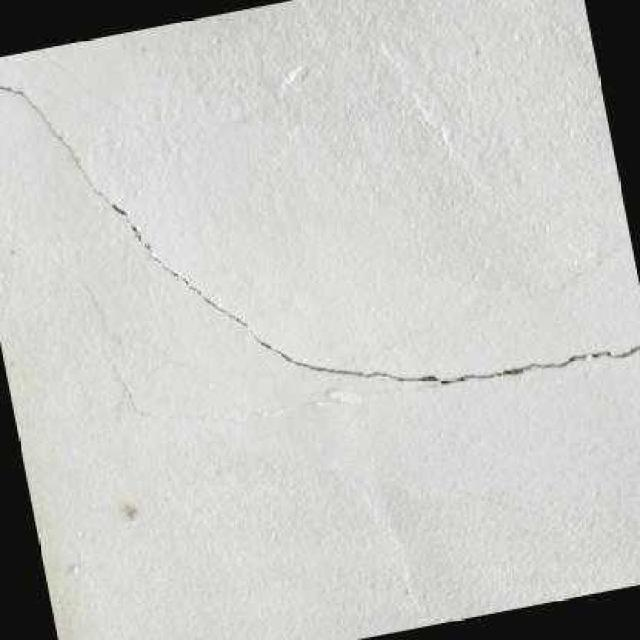D00: (0, 83, 640, 385)
